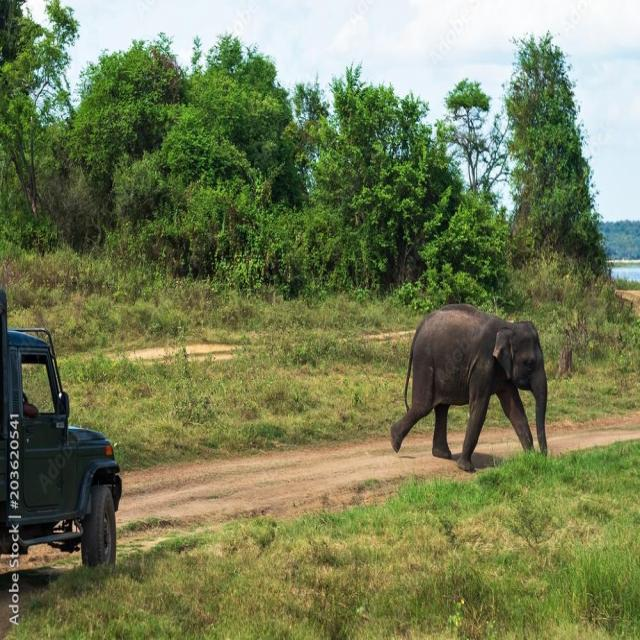Elephant: (389, 291, 558, 479)
